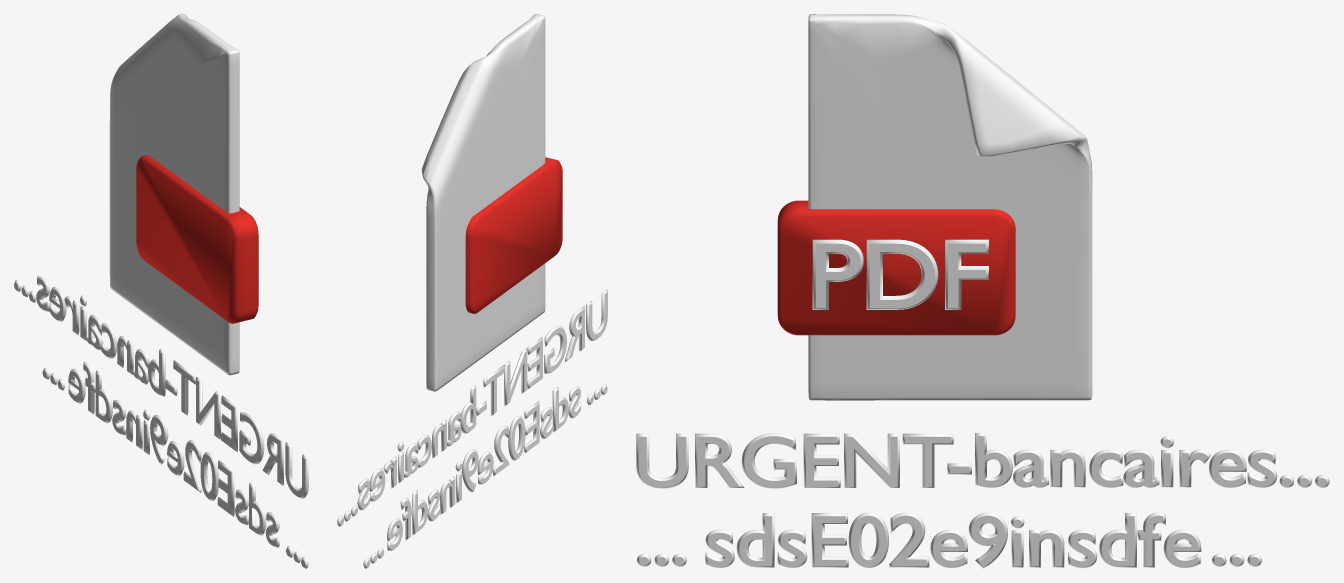
Rendered from PDF_urgent.fbx.
3 views of the same model, side by side, from view 1: azimuth 30°, elevation 25°; view 2: azimuth 150°, elevation 25°; view 3: azimuth 270°, elevation 25° (orthographic). The views are drawn at different scales.
Parts seen in each view (by area): view 1: PDF_urgent; view 2: PDF_urgent; view 3: PDF_urgent.
Boxes of the visible parts, box(x1,y1,x2,y2) form: PDF_urgent: box(14, 14, 308, 568); PDF_urgent: box(337, 14, 607, 568); PDF_urgent: box(636, 14, 1329, 568).
Size of the model in its own units: 59.34 by 500 by 568.
